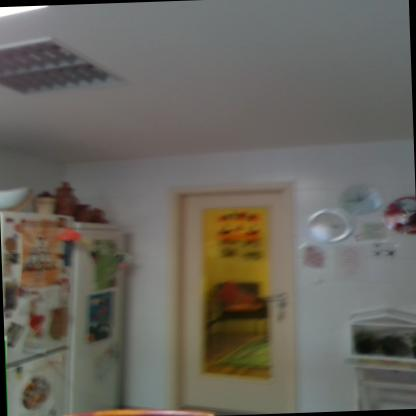closed: (160, 176, 312, 410)
